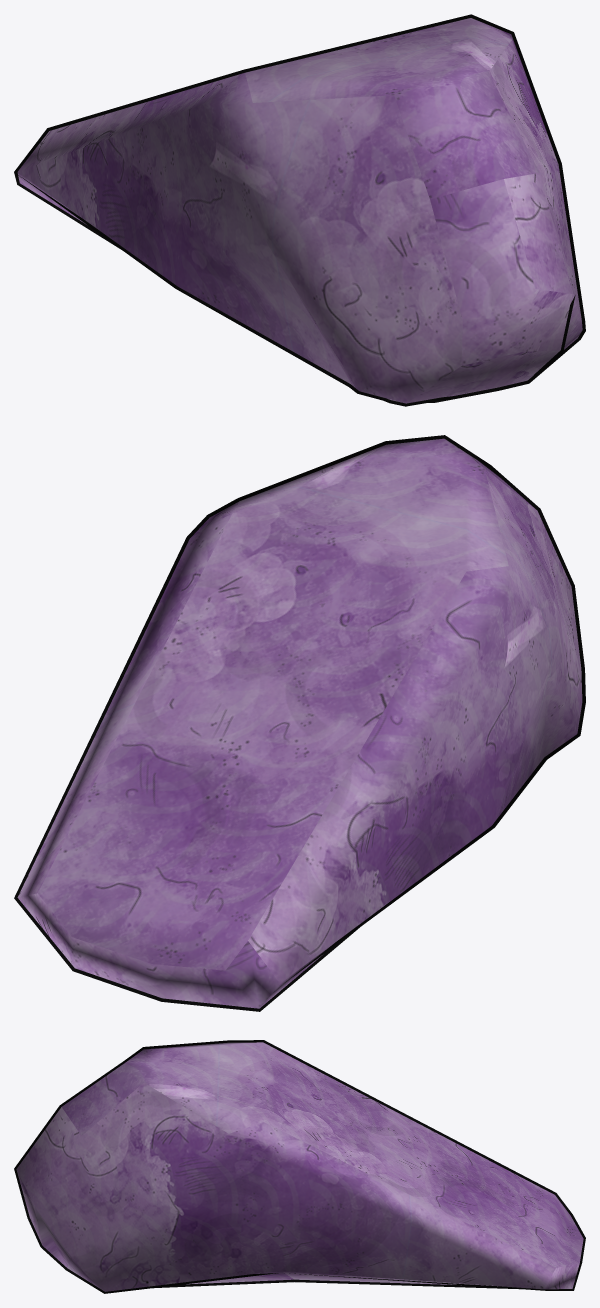
The model's file is s0_Rock_06__1__01.glb.
The picture shows the model from 3 angles, top to bottom: view 1: azimuth 30°, elevation 25°; view 2: azimuth 150°, elevation 25°; view 3: azimuth 270°, elevation 25°; orthographic projection. The views are drawn at different scales.
Parts seen in each view (by area): view 1: node_Rock_06 (1), node_Rock_06_Outline; view 2: node_Rock_06 (1), node_Rock_06_Outline; view 3: node_Rock_06 (1), node_Rock_06_Outline.
Part boxes in pixels (x1=…): node_Rock_06 (1): x1=17, y1=18, x2=582, y2=403; node_Rock_06_Outline: x1=14, y1=14, x2=585, y2=406; node_Rock_06 (1): x1=17, y1=438, x2=582, y2=1008; node_Rock_06_Outline: x1=14, y1=435, x2=585, y2=1011; node_Rock_06 (1): x1=16, y1=1042, x2=583, y2=1291; node_Rock_06_Outline: x1=14, y1=1040, x2=585, y2=1293.
Size of what is drawn, in the model's own units: 3.13 by 2.97 by 6.94.
Materials: 2 (1 with a texture image).
